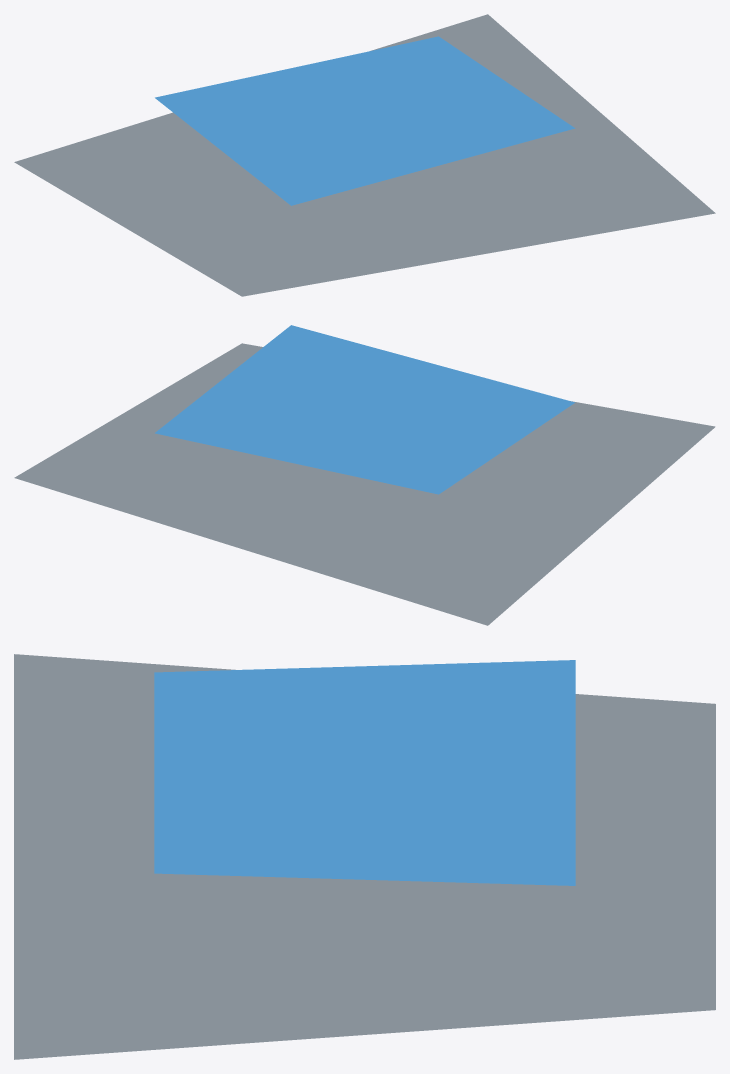
File: AL_NightveilBomber_LOD2.glb
3 views of the same model, one above another, from view 1: azimuth 30°, elevation 25°; view 2: azimuth 150°, elevation 25°; view 3: azimuth 270°, elevation 25° (orthographic). The views are drawn at different scales.
Parts seen in each view (by area): view 1: EntranceGate; view 2: EntranceGate; view 3: EntranceGate.
Part boxes in pixels (x1,y1,x2,y2): EntranceGate: (14, 14, 715, 296); EntranceGate: (14, 325, 715, 625); EntranceGate: (14, 654, 715, 1059).
Size of the model in its own units: 900 by 136 by 750.
